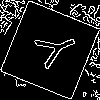Y: (25, 25, 81, 74)
